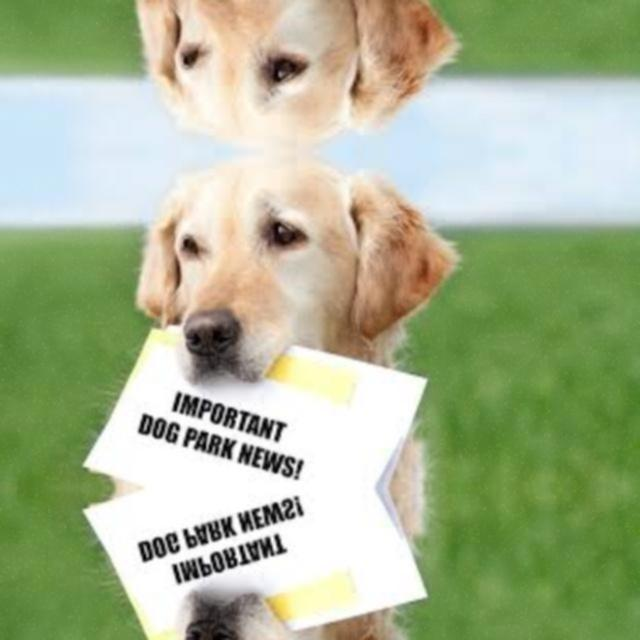dog: (98, 164, 470, 488), (98, 487, 470, 640), (98, 0, 470, 138)
